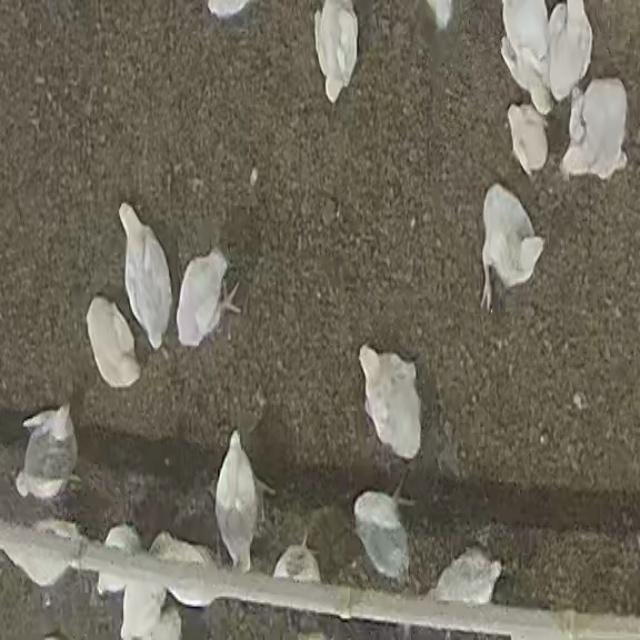chicken: (479, 180, 546, 308), (119, 202, 172, 355), (560, 74, 633, 180), (359, 347, 422, 464), (15, 402, 80, 502), (176, 251, 238, 347), (502, 1, 554, 114), (351, 488, 409, 584), (148, 531, 220, 608), (216, 428, 255, 570), (542, 0, 596, 96), (83, 295, 139, 385), (0, 521, 77, 584), (315, 0, 363, 100), (428, 551, 505, 603), (98, 522, 144, 596), (507, 103, 551, 169), (118, 583, 165, 637), (273, 538, 321, 583)
